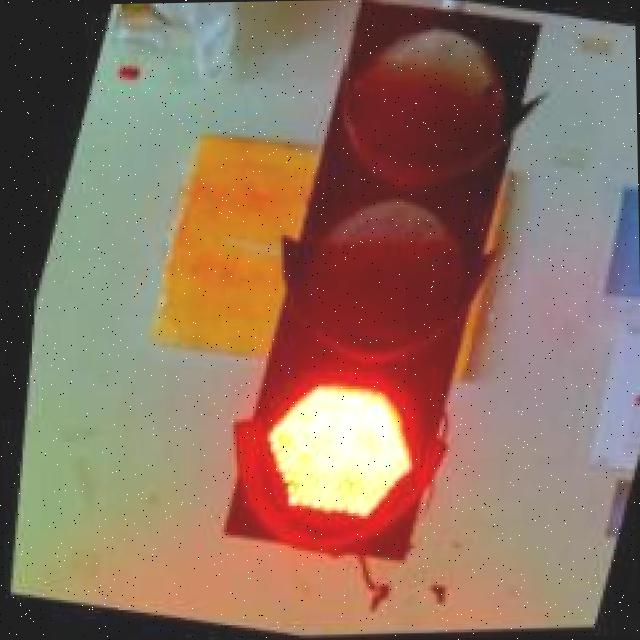red_light: (199, 0, 550, 576)
